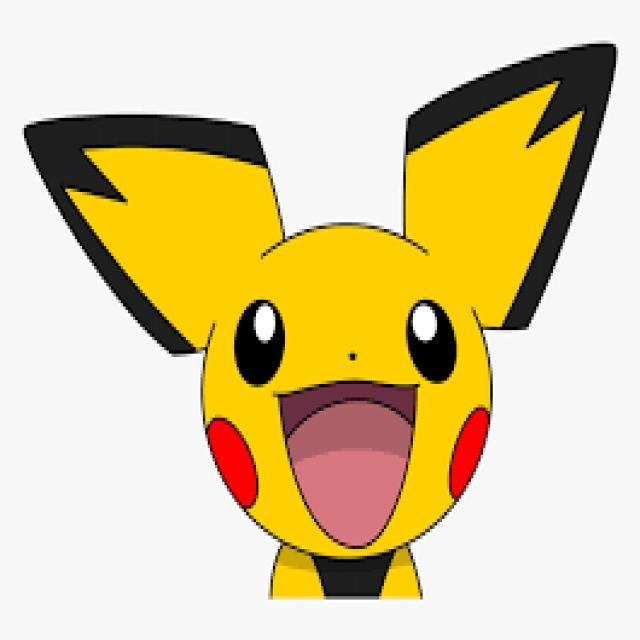pichu: (27, 27, 589, 600)
